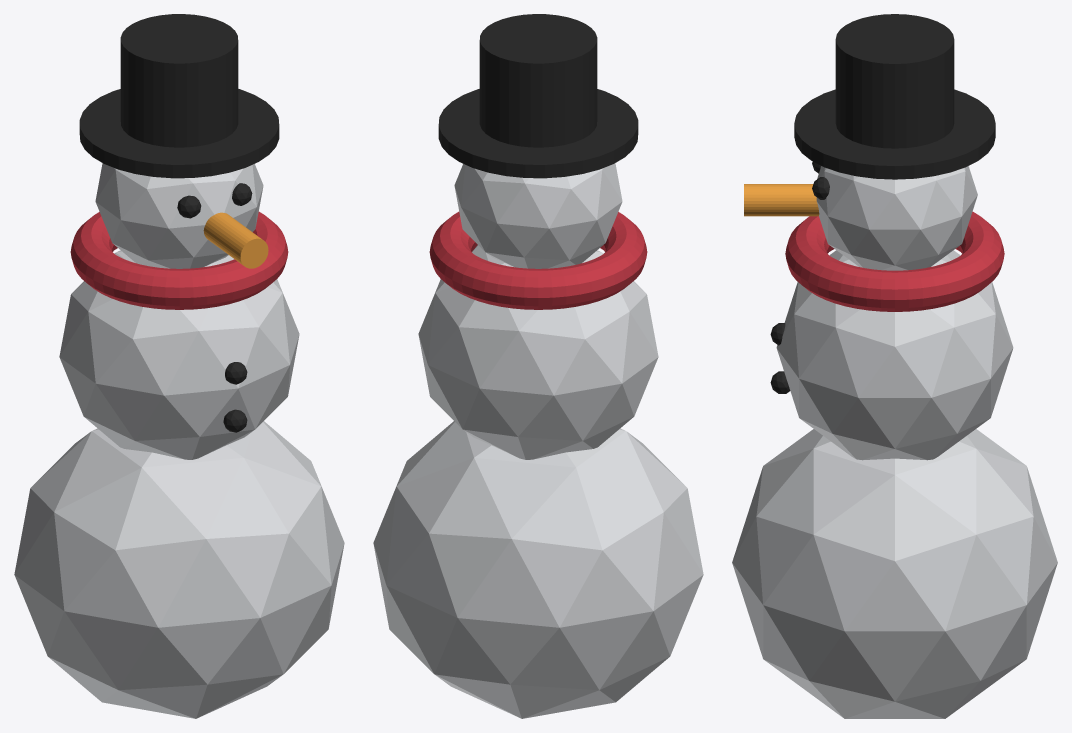
The model's file is Snowman.glb.
3 views of the same model, side by side, from view 1: azimuth 30°, elevation 25°; view 2: azimuth 150°, elevation 25°; view 3: azimuth 270°, elevation 25° (orthographic).
Parts seen in each view (by area): view 1: SnowBase, SnowBody, SnowHatTop, SnowHead, SnowScarf, SnowHatBrim, SnowNose; view 2: SnowBase, SnowBody, SnowHatTop, SnowHead, SnowScarf, SnowHatBrim; view 3: SnowBase, SnowBody, SnowHatTop, SnowHead, SnowScarf, SnowHatBrim, SnowNose.
Part boxes in pixels (box(x1,y1,x2,y2)): SnowBase: box(14, 421, 344, 718); SnowBody: box(59, 250, 299, 459); SnowHatTop: box(120, 14, 238, 147); SnowHead: box(95, 163, 263, 268); SnowScarf: box(70, 211, 288, 309); SnowHatBrim: box(79, 89, 279, 178); SnowNose: box(203, 212, 268, 268); SnowBase: box(373, 421, 703, 718); SnowBody: box(418, 245, 658, 459); SnowHatTop: box(479, 14, 597, 147); SnowHead: box(454, 163, 622, 268); SnowScarf: box(429, 211, 647, 309); SnowHatBrim: box(438, 89, 638, 178); SnowBase: box(732, 429, 1057, 718); SnowBody: box(776, 250, 1013, 460); SnowHatTop: box(835, 14, 954, 148); SnowHead: box(816, 166, 977, 270); SnowScarf: box(785, 211, 1004, 311); SnowHatBrim: box(794, 89, 995, 179); SnowNose: box(744, 184, 819, 216).
Bounding box in the file's own units: 1.1 × 2.5 × 1.1.
